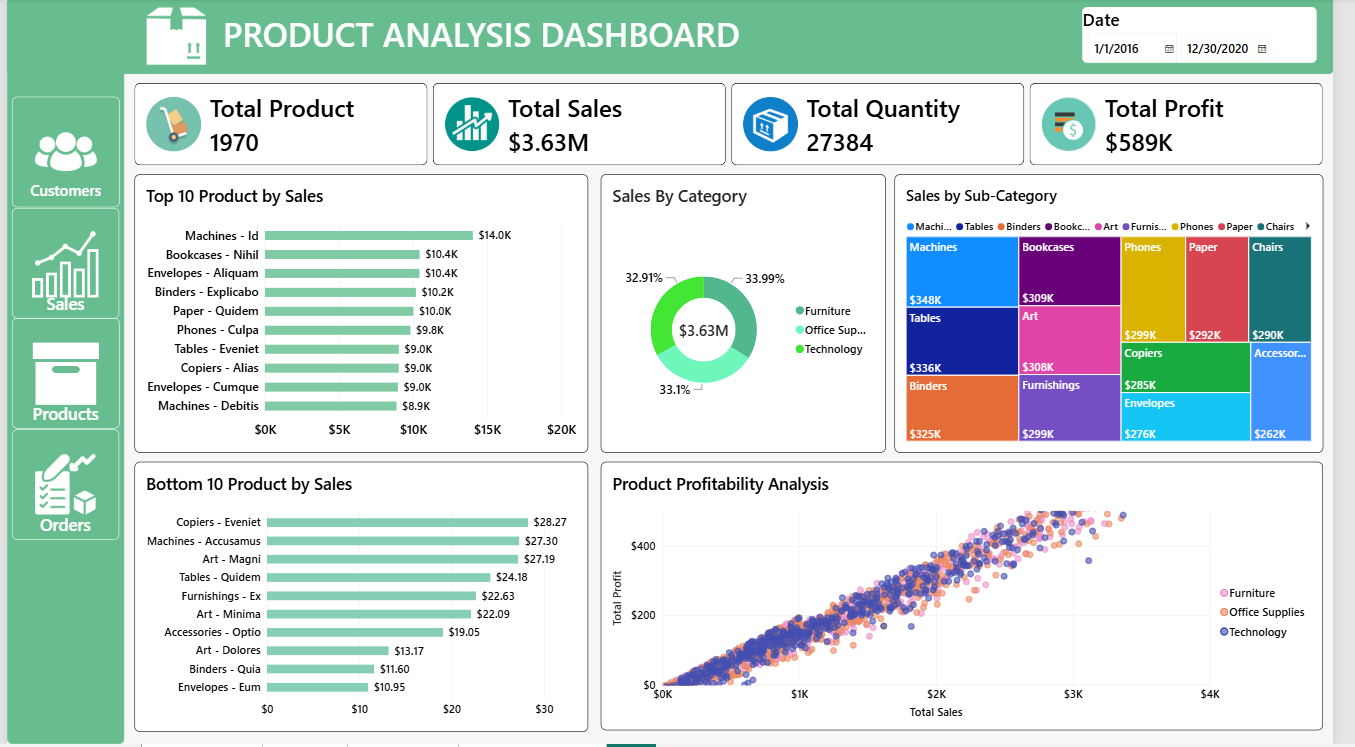

This screenshot's page, from the dashboard's own definition file:
{"tool":"powerbi","page":{"name":"Products","canvas":[1920,1080],"ordinal":2},"visuals":[{"type":"shape","box":[0,0,170,1080.4],"z":0},{"type":"shape","box":[0,0,1920.1,110],"z":1000},{"type":"cardVisual","fields":{"Data":["KPI DAX HOME.Total Product","KPI DAX HOME.Total Sales","KPI DAX HOME.Total Quantity","KPI DAX HOME.Total Profit"]},"box":[184.6,123.1,1721,119.4],"z":2000},{"type":"barChart","title":"Top 10 Product by Sales ","fields":{"Category":["Product_Dim.Product Name"],"Y":["KPI DAX HOME.Total Sales"]},"box":[184.6,255.2,656.9,403.6],"z":3000},{"type":"barChart","title":"Bottom 10 Product by Sales ","fields":{"Category":["Product_Dim.Product Name"],"Y":["KPI DAX HOME.Total Sales"]},"box":[184.6,671.4,656.9,390.9],"z":4000},{"type":"donutChart","title":"Sales By Category","fields":{"Category":["Category_Dim.Category"],"Y":["KPI DAX HOME.Total Sales"]},"box":[859.6,255.2,412.6,403.6],"z":5000},{"type":"treemap","title":"Sales by Sub-Category","fields":{"Group":["Sub_Category_Dim.Sub-Category"],"Values":["KPI DAX HOME.Total Sales"]},"box":[1284.9,255.2,620.7,403.6],"z":6000},{"type":"scatterChart","title":"Product Profitability Analysis","fields":{"Category":["Product_Dim.Product Name"],"Series":["Category_Dim.Category"],"X":["KPI DAX HOME.Total Sales"],"Y":["KPI DAX HOME.Total Profit"]},"box":[859.6,671.4,1046,389.1],"z":7000},{"type":"slicer","title":"Date","fields":{"Values":["calender.Date"]},"box":[1556,12.7,340.2,81.4],"z":8000},{"type":"actionButton","title":"Customer","box":[7.2,143,155.6,160],"z":9000},{"type":"actionButton","title":"Customer","box":[7.2,304,155,160],"z":10000},{"type":"actionButton","title":"Customer","box":[7.2,463.3,155.6,160],"z":11000},{"type":"actionButton","title":"Customer","box":[7.2,624.3,155,160],"z":12000},{"type":"textbox","box":[295,0,783.6,110.4],"z":12001},{"type":"image","box":[162.9,0,164.7,110.4],"z":12002}]}

Visuals, with their boxes on the page's 1920x1080 design canvas (x1, y1, x2, y2). These are canvas units, not pixel positions in the 1355x747 screenshot, which may show the page scaled, cropped or inside an application window:
shape: [0,0,170,1080]
shape: [0,0,1920,110]
cardVisual - KPI DAX HOME.Total Product x KPI DAX HOME.Total Sales: [185,123,1906,242]
"Top 10 Product by Sales " barChart: [185,255,842,659]
"Bottom 10 Product by Sales " barChart: [185,671,842,1062]
"Sales By Category" donutChart: [860,255,1272,659]
"Sales by Sub-Category" treemap: [1285,255,1906,659]
"Product Profitability Analysis" scatterChart: [860,671,1906,1060]
"Date" slicer: [1556,13,1896,94]
"Customer" actionButton: [7,143,163,303]
"Customer" actionButton: [7,304,162,464]
"Customer" actionButton: [7,463,163,623]
"Customer" actionButton: [7,624,162,784]
textbox: [295,0,1079,110]
image: [163,0,328,110]
